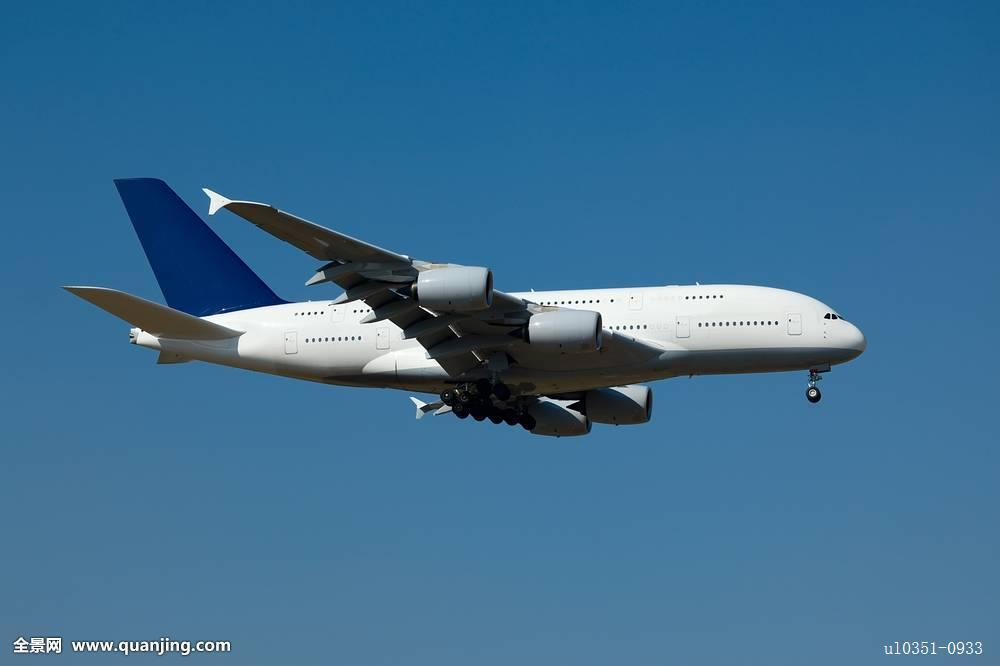airplane: (57, 180, 869, 437)
